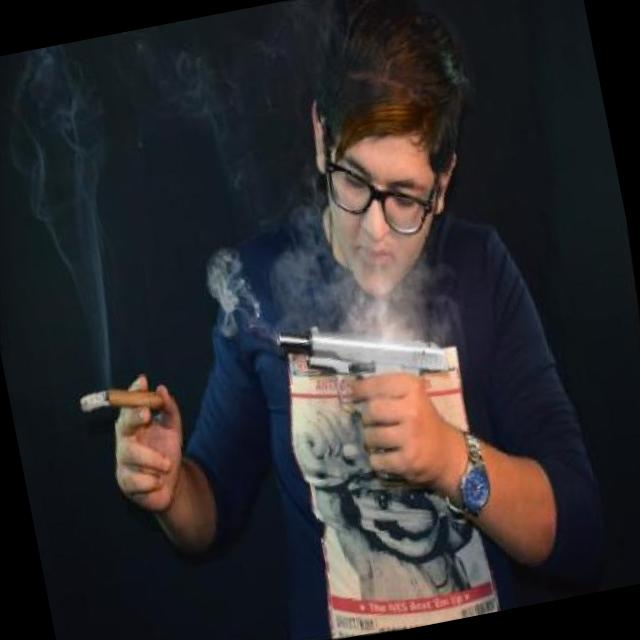cigarette: (80, 376, 173, 429)
